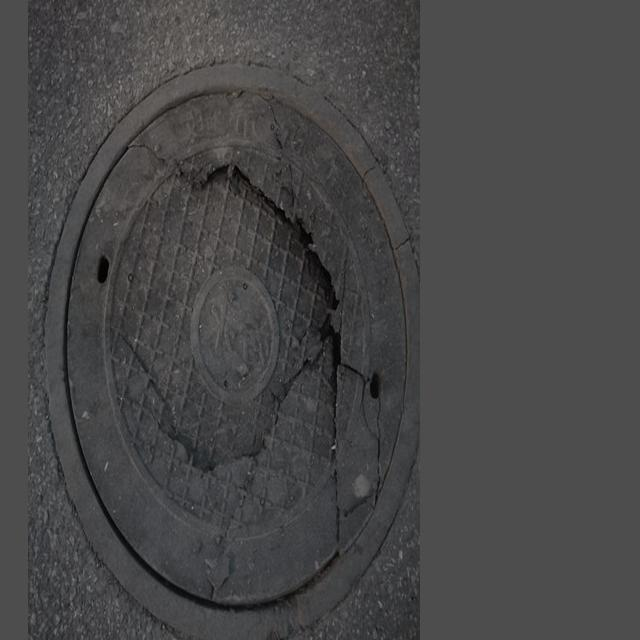broke: (48, 53, 411, 640)
